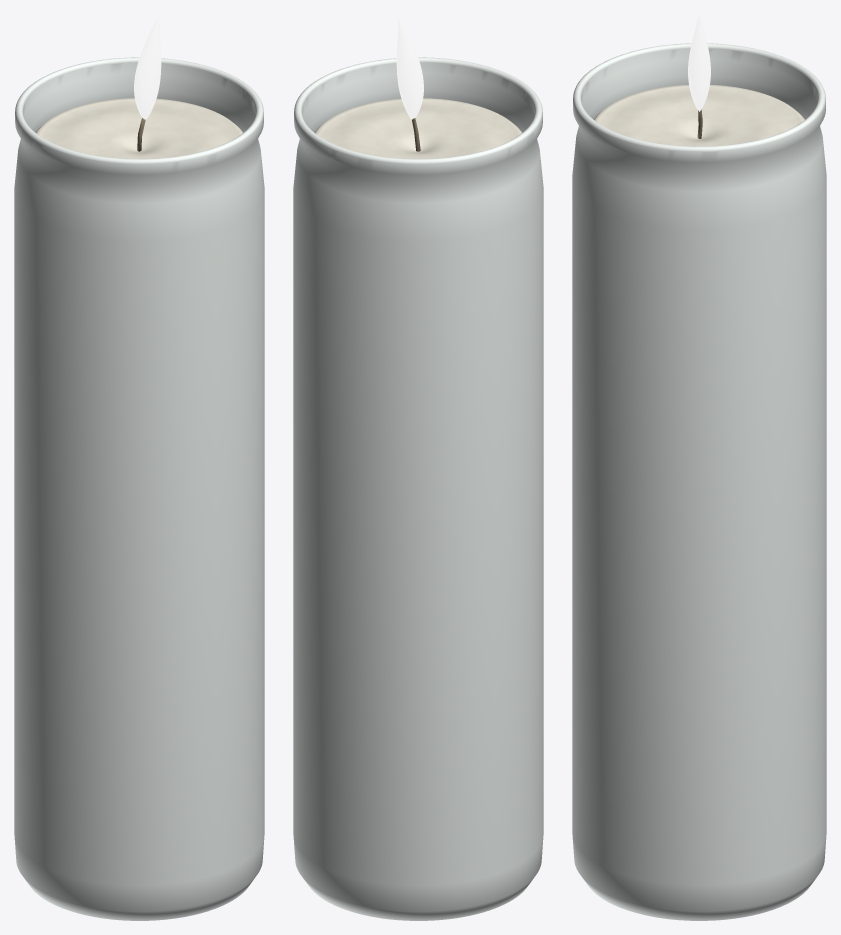
File: veladora_3.gltf
The picture shows the model from 3 angles, left to right: view 1: azimuth 30°, elevation 25°; view 2: azimuth 150°, elevation 25°; view 3: azimuth 270°, elevation 25°; orthographic projection.
Parts seen in each view (by area): view 1: vaso, cera, llama_3; view 2: vaso, cera, llama_3; view 3: vaso, cera, llama_3.
Part boxes in pixels (box(x1,y1,x2,y2)): vaso: box(14, 57, 264, 920); cera: box(35, 98, 243, 158); llama_3: box(134, 14, 161, 119); vaso: box(293, 57, 543, 920); cera: box(314, 98, 522, 158); llama_3: box(396, 14, 423, 119); vaso: box(572, 43, 826, 920); cera: box(594, 84, 804, 146); llama_3: box(688, 14, 710, 111).
Size of the model in its own units: 0.068 by 0.256 by 0.068.
Materials: 4 (3 with a texture image).
